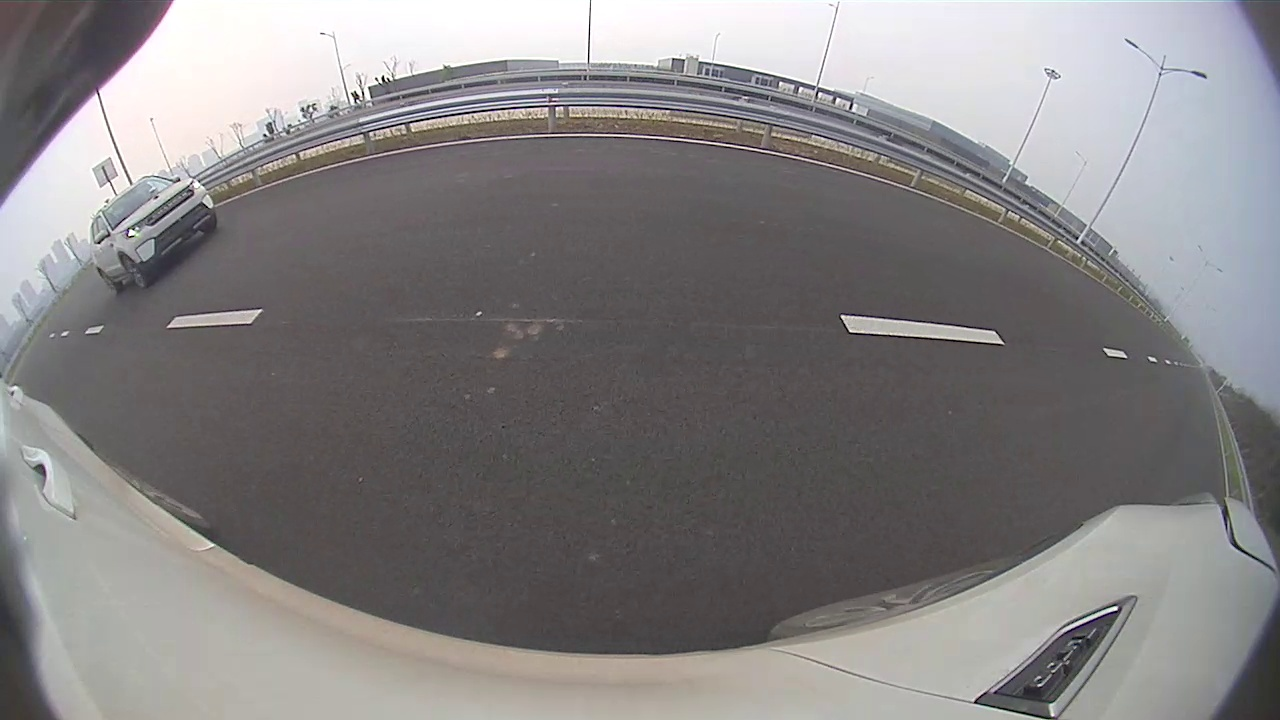car: (302, 145, 497, 263)
front: (475, 186, 499, 222)
rear: (402, 201, 437, 253)
